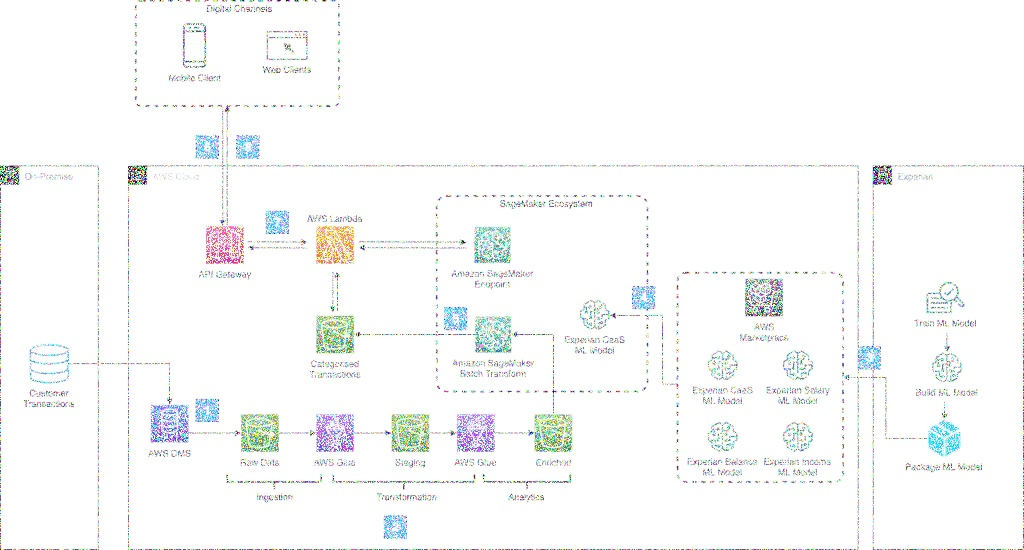API-Gateway: (203, 220, 247, 267)
Dynamo DB: (25, 342, 73, 387), (147, 399, 191, 446)
Glue: (453, 410, 498, 456), (312, 410, 357, 454)
Lambda: (313, 223, 357, 266)
Marketplace: (739, 275, 786, 320)
Mobile Client: (171, 17, 212, 71)
S3: (531, 409, 578, 456), (237, 408, 282, 455), (387, 413, 433, 457), (314, 314, 357, 357)
SDK: (922, 416, 969, 458)
Sagemaker: (471, 222, 512, 266), (926, 345, 966, 389), (574, 293, 616, 333), (475, 314, 514, 357), (779, 345, 819, 385), (702, 418, 743, 457), (705, 343, 740, 385), (779, 417, 816, 455)
Web Clients: (262, 23, 312, 64)
